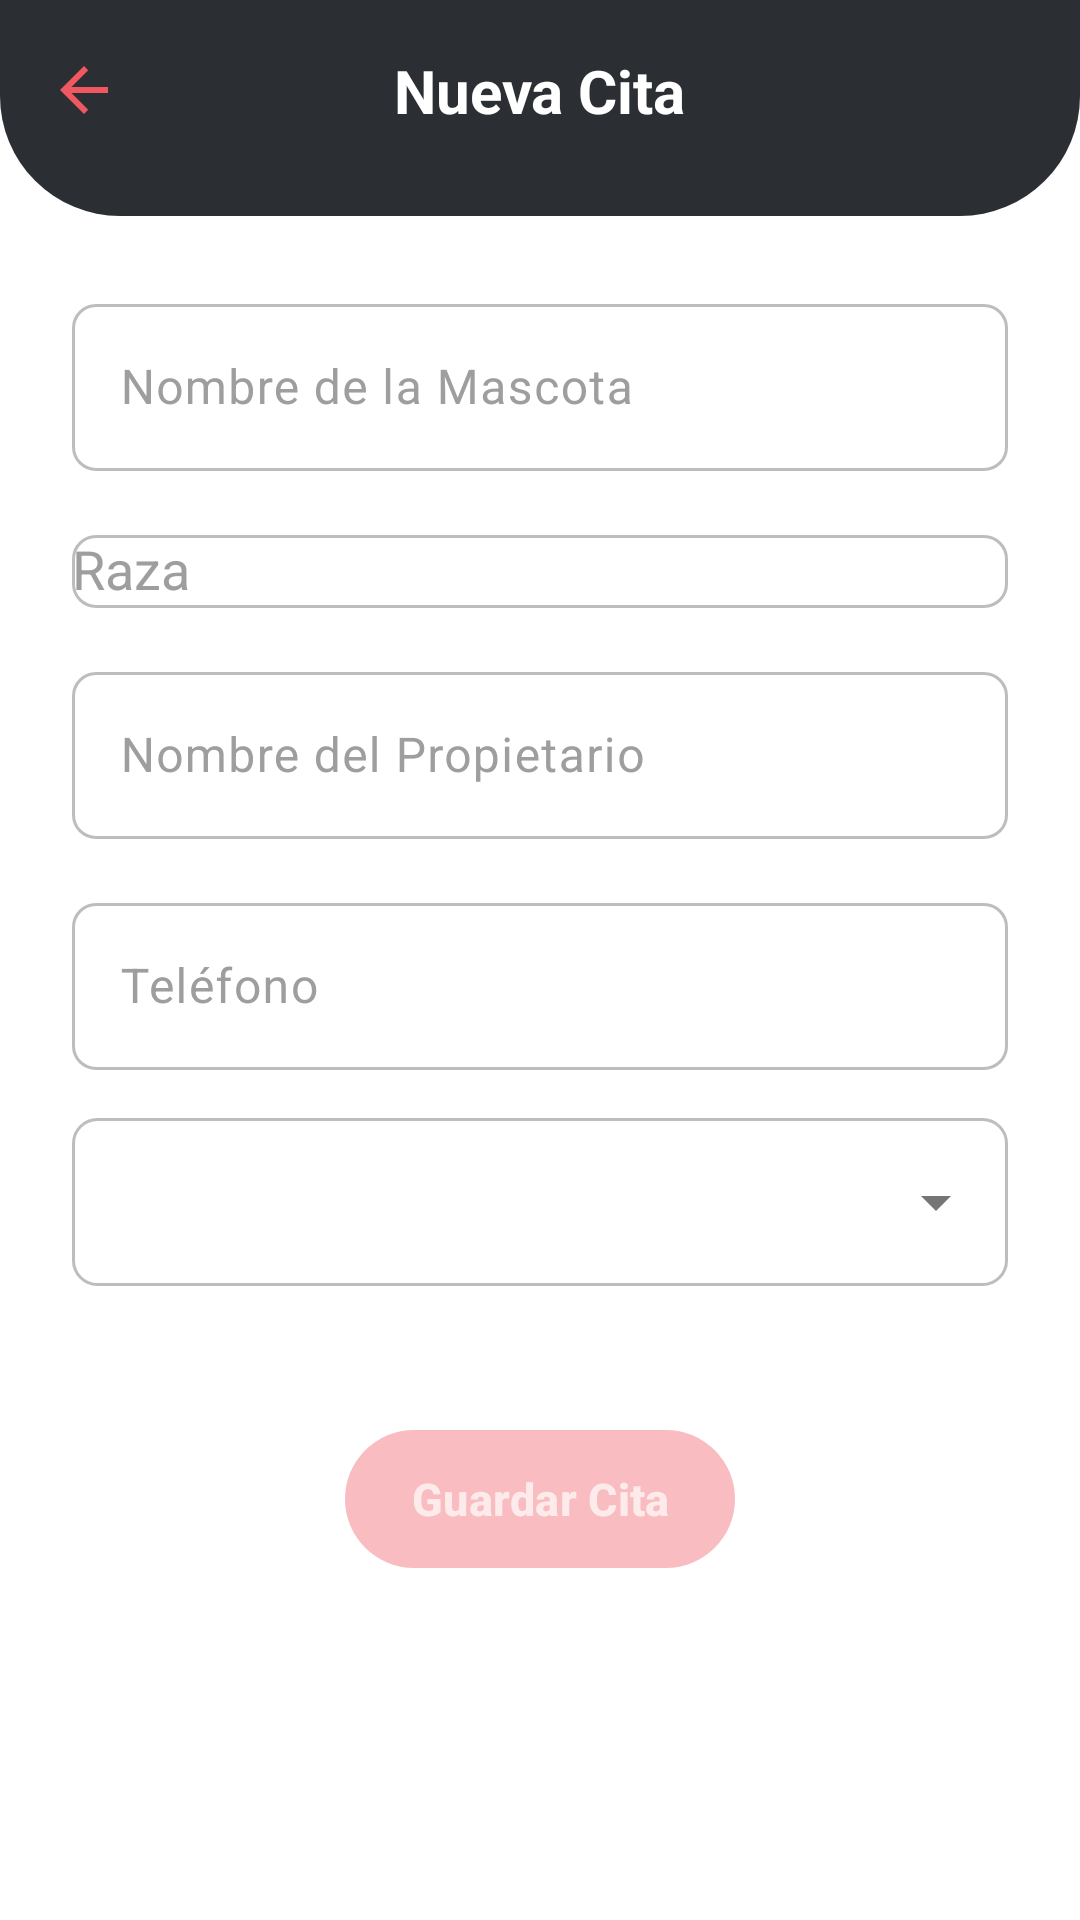

Named icons in this screenshot (1080px×1920px) and their centers, point (x, y):
Volver: point (84, 90)
